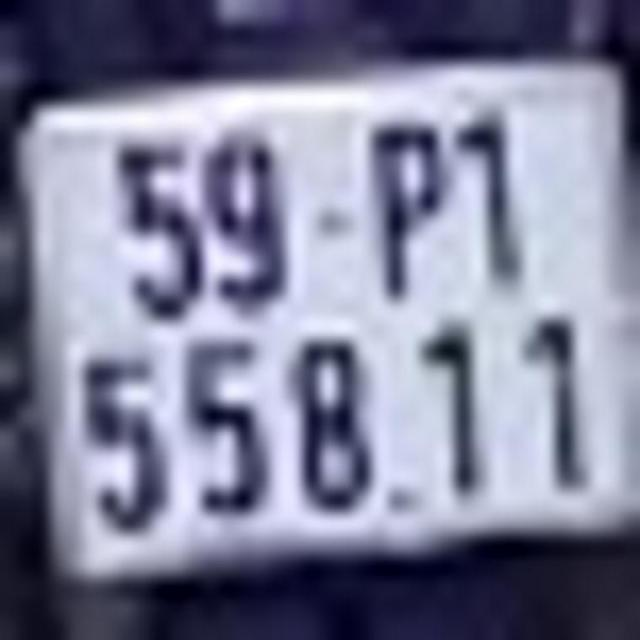1: (446, 102, 526, 300), (418, 318, 489, 496), (525, 304, 587, 496)
5: (112, 127, 206, 329), (78, 342, 173, 540), (177, 322, 268, 520)
8: (287, 320, 380, 517)
9: (204, 128, 288, 309)
P: (357, 106, 443, 313)
